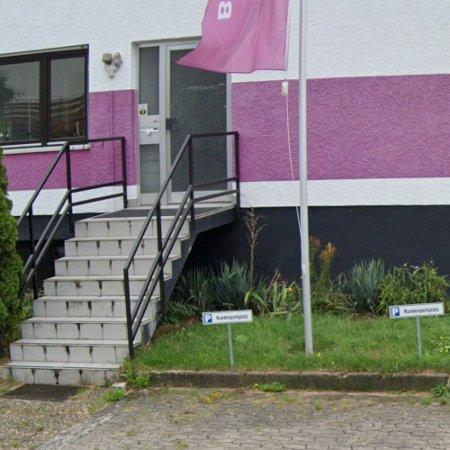stairs: (6, 207, 151, 386), (164, 178, 235, 297), (129, 217, 159, 310)
